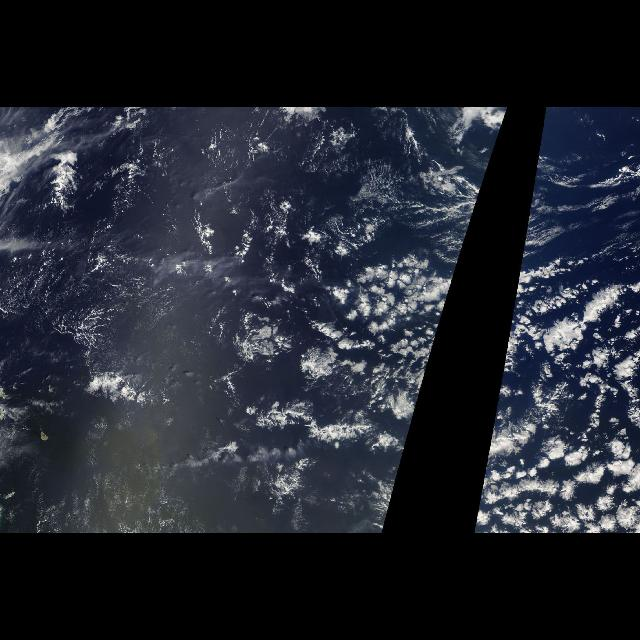Flower: (474, 257, 640, 533), (326, 257, 462, 533), (7, 228, 230, 370)
Sugar: (1, 202, 175, 364)
